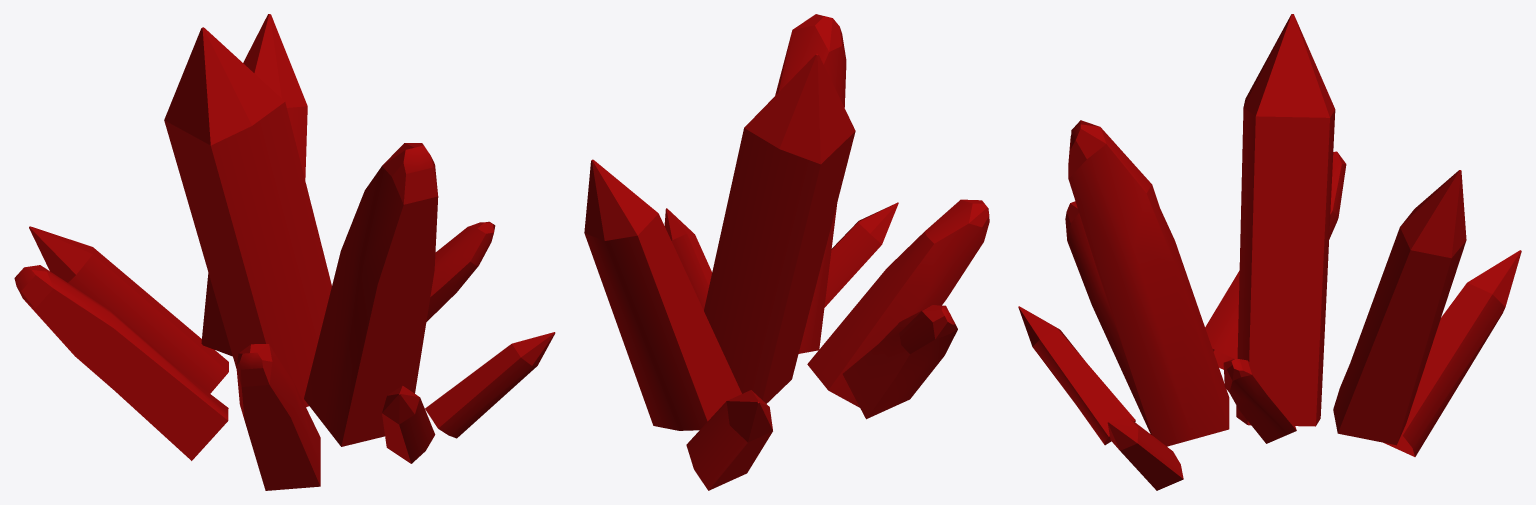
The model's file is Grupo01Cristales.fbx.
The picture shows the model from 3 angles, left to right: view 1: azimuth 30°, elevation 25°; view 2: azimuth 150°, elevation 25°; view 3: azimuth 270°, elevation 25°; orthographic projection. The views are drawn at different scales.
Visible parts, largest first — view 1: Object003, Cristal006, Cristal008, Cristal012, Cristal011, Cristal004, Cristal010; view 2: Object003, Cristal004, Cristal008, Cristal012, Cristal006, Cristal010, Cristal011; view 3: Object003, Cristal006, Cristal004, Cristal008, Cristal011, Cristal010, Cristal012.
Part boxes in pixels (x1,y1,x2,y2): Object003: (164, 27, 331, 407); Cristal006: (304, 143, 438, 446); Cristal008: (14, 226, 228, 460); Cristal012: (236, 344, 320, 490); Cristal011: (425, 221, 555, 438); Cristal004: (201, 14, 307, 356); Cristal010: (382, 385, 435, 463); Object003: (704, 53, 855, 403); Cristal004: (584, 159, 741, 430); Cristal008: (686, 305, 957, 490); Cristal012: (807, 199, 989, 407); Cristal006: (775, 14, 846, 353); Cristal010: (824, 202, 898, 307); Cristal011: (664, 208, 712, 310); Object003: (1236, 14, 1335, 426); Cristal006: (1068, 120, 1229, 446); Cristal004: (1333, 170, 1466, 445); Cristal008: (1205, 151, 1521, 456); Cristal011: (1107, 359, 1296, 490); Cristal010: (1018, 306, 1135, 445); Cristal012: (1065, 201, 1151, 434).
Size of the model in its own units: 63.46 by 61.43 by 66.97.
